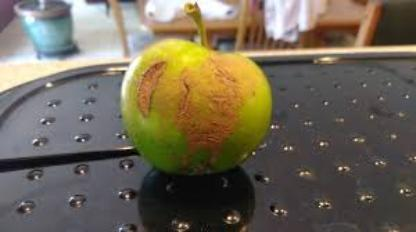defect: (128, 44, 250, 160)
